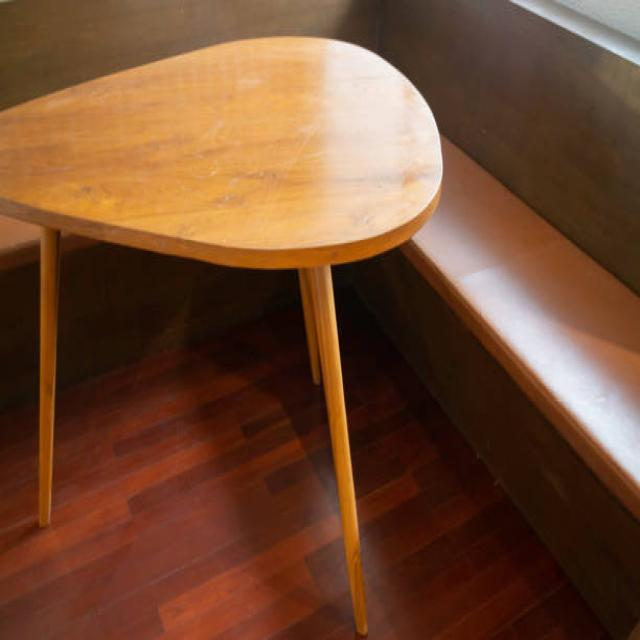table: (0, 31, 443, 636)
